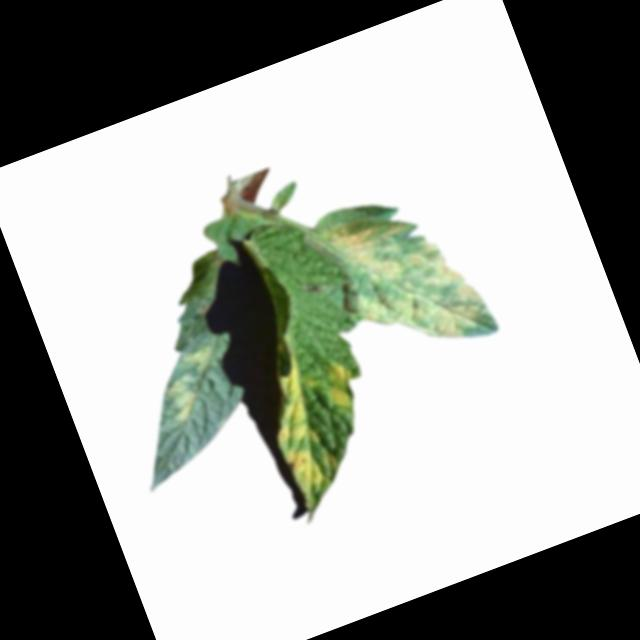Leaf_Mold: (323, 186, 494, 370), (248, 350, 351, 515), (317, 352, 363, 413), (160, 370, 208, 426), (181, 343, 217, 373)
